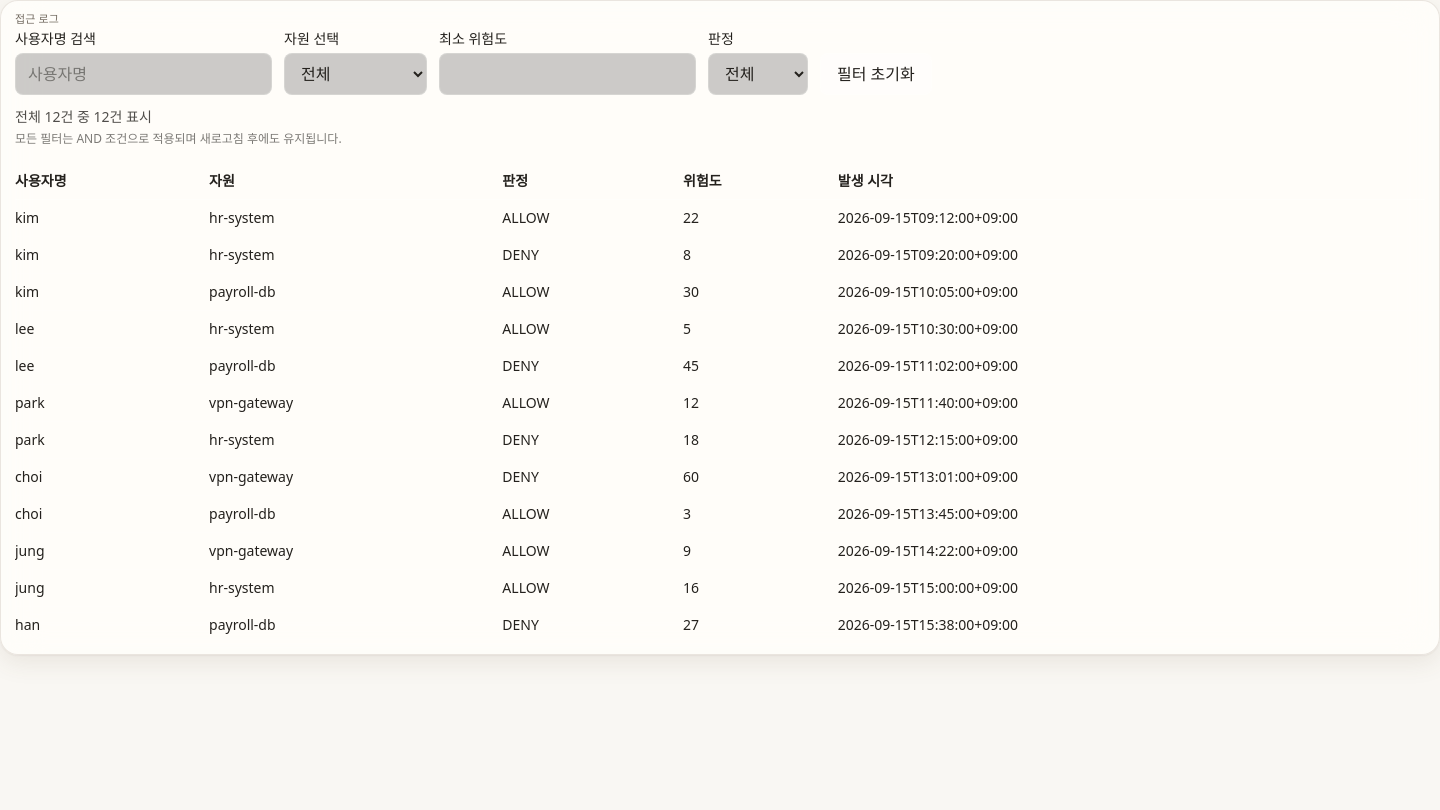
it: Task 5 fixed tests (FT-01..FT-10) › FT-09: 하나 이상의 필터를 적용한 뒤 초기화 버튼을 누른다 -> 필터가 초기화되고 전체 N건이 다시 표시된다
The image size is (1440, 810).
Type "kim" into the field labelled "사용자명 검색" at (144, 74), box [15,53,272,95]
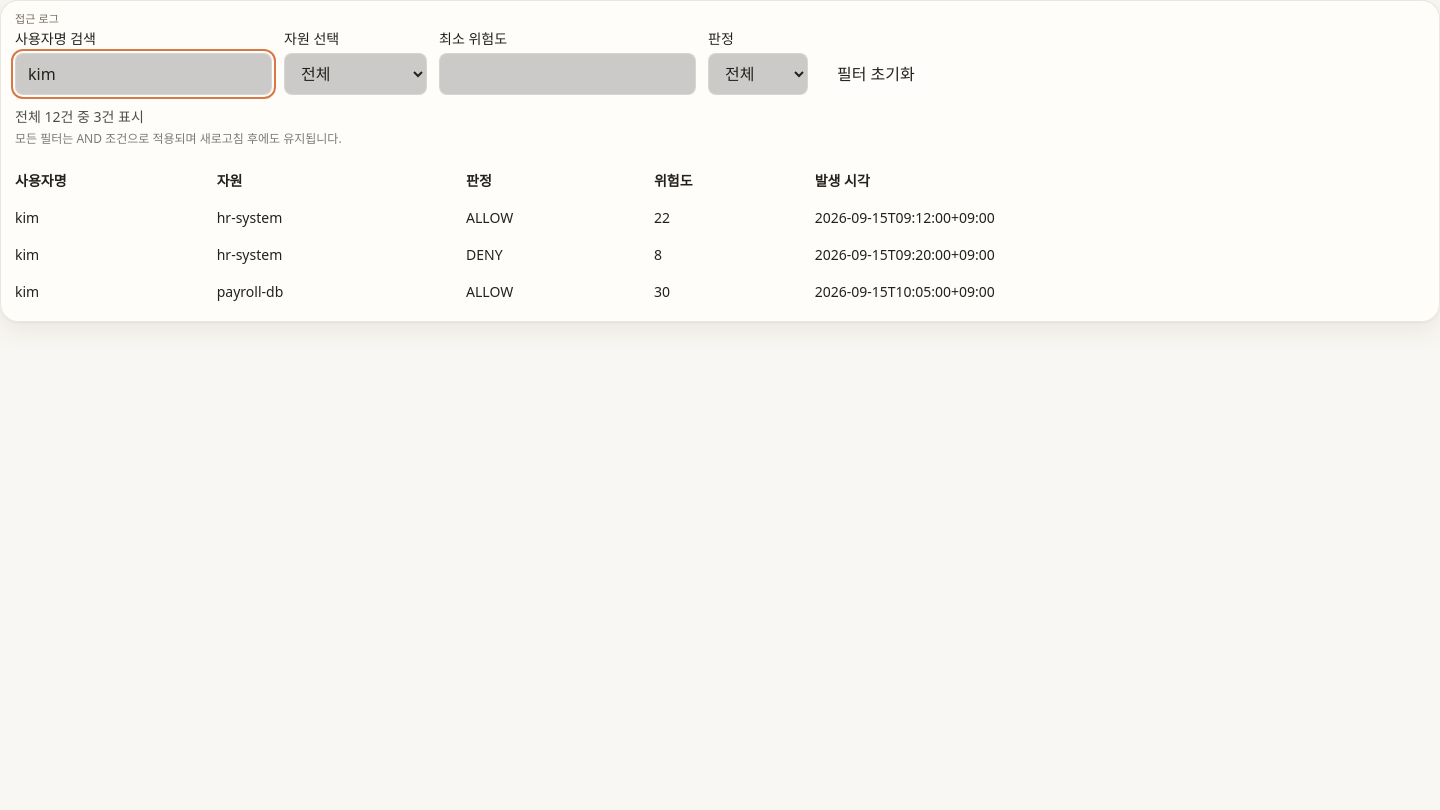
Select "ALLOW" in the dropdown labelled "판정" at (758, 74), box [708,53,808,95]
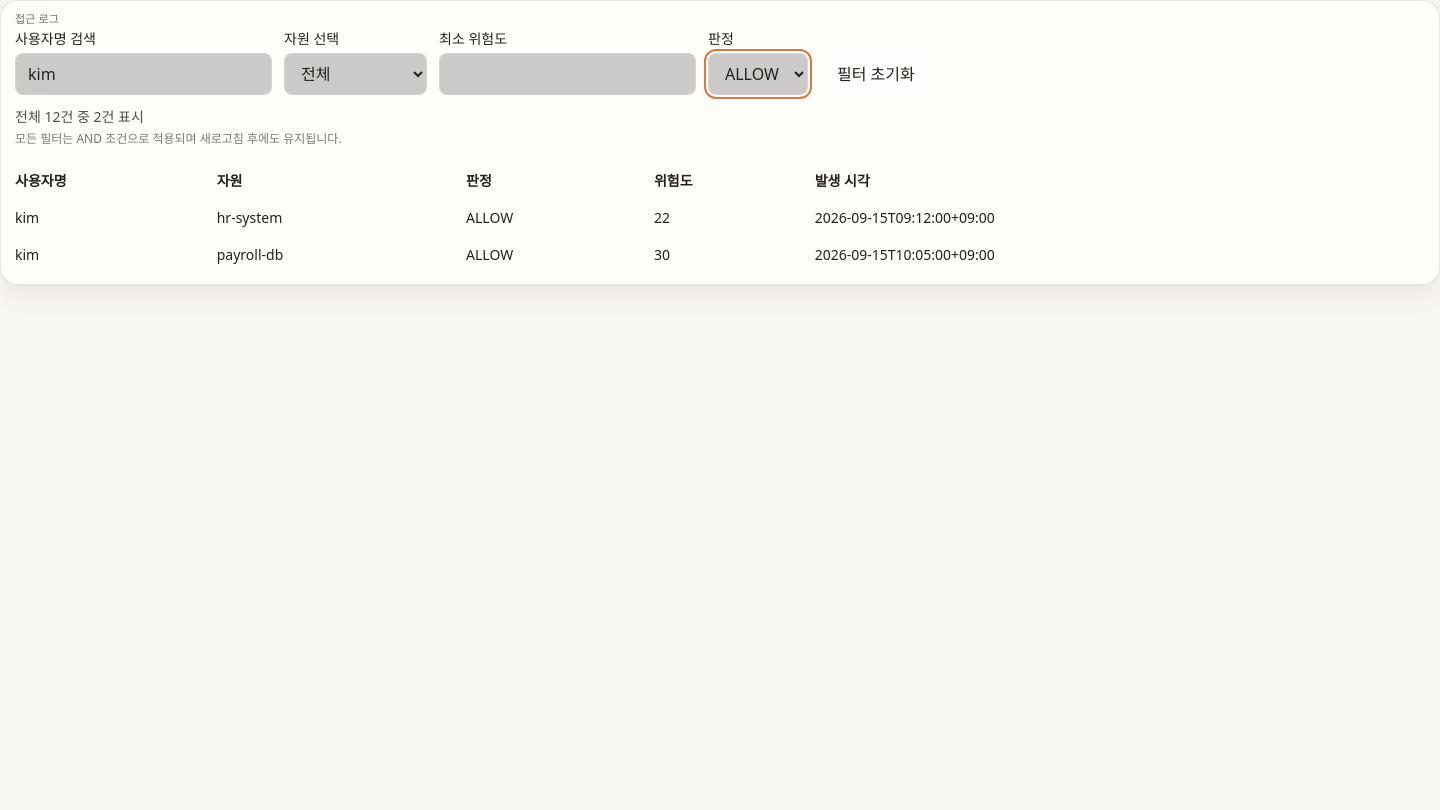
Click the button "필터 초기화" at (876, 74), box [820,53,932,95]
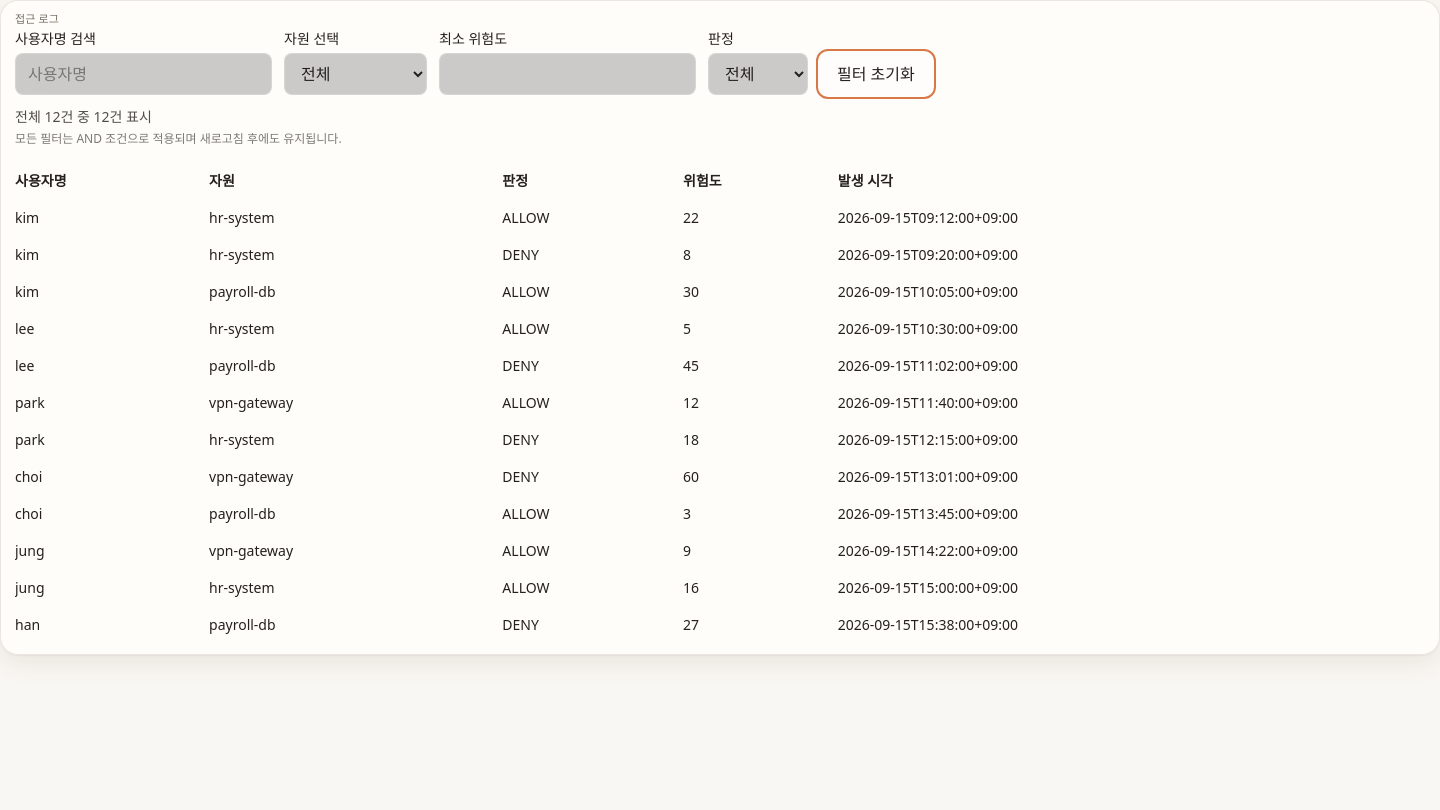
Check: the field labelled "사용자명 검색" is empty, box [15,53,272,95]
